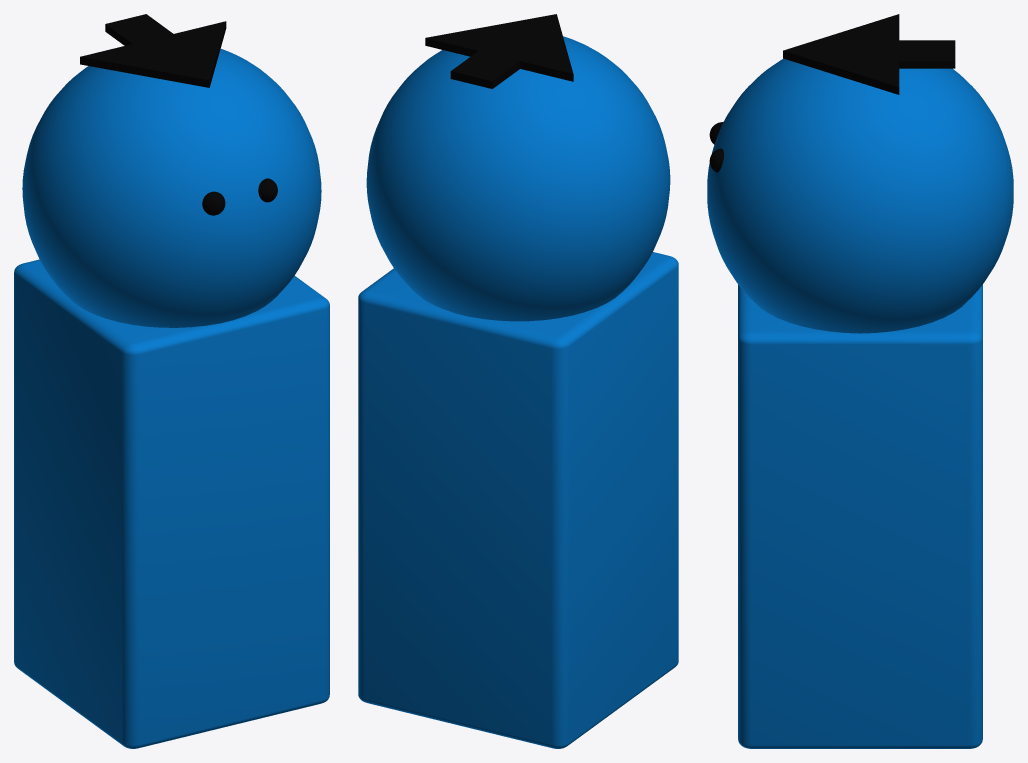
3 views of the same model, side by side, from view 1: azimuth 30°, elevation 25°; view 2: azimuth 150°, elevation 25°; view 3: azimuth 270°, elevation 25° (orthographic). The views are drawn at different scales.
Visible parts, largest first — view 1: Curve.004_Curve.009_Material.006, Curve.004_Curve.009_SVGMat; view 2: Curve.004_Curve.009_Material.006, Curve.004_Curve.009_SVGMat; view 3: Curve.004_Curve.009_Material.006, Curve.004_Curve.009_SVGMat.
Part boxes in pixels (x1,y1,x2,y2): Curve.004_Curve.009_Material.006: (14, 49, 329, 748); Curve.004_Curve.009_SVGMat: (80, 14, 277, 215); Curve.004_Curve.009_Material.006: (358, 36, 678, 748); Curve.004_Curve.009_SVGMat: (425, 14, 573, 88); Curve.004_Curve.009_Material.006: (707, 58, 1013, 748); Curve.004_Curve.009_SVGMat: (709, 14, 955, 172).
Size of the model in its own units: 0.2062 by 0.4815 by 0.2057.
